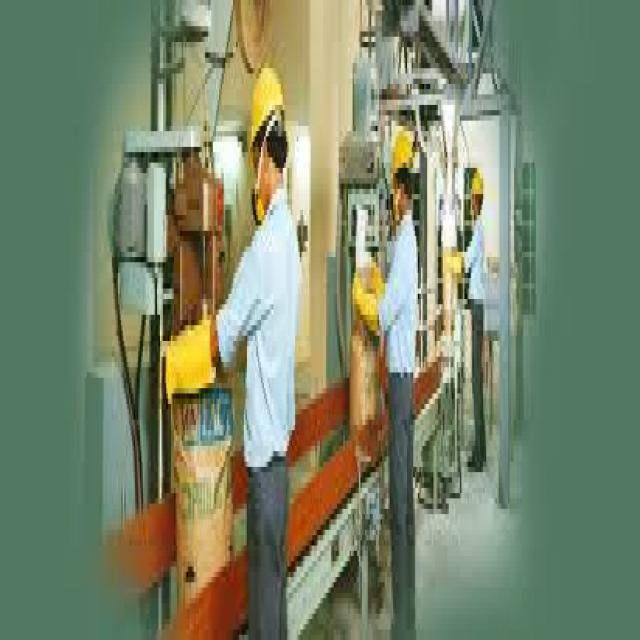Safety-Helmet: (242, 47, 292, 168), (385, 116, 421, 194), (469, 157, 486, 210)
